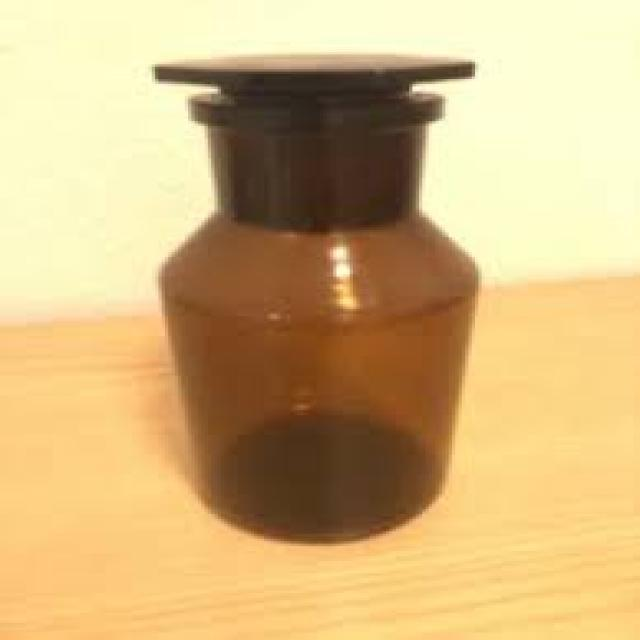Glass: (159, 93, 482, 546)
